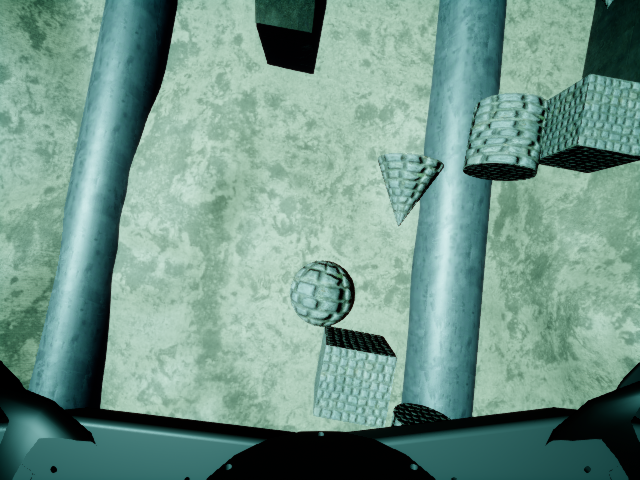box: (541, 63, 638, 178), (308, 328, 400, 426)
cone: (369, 150, 442, 237)
cylinder: (460, 84, 546, 182)
sphere: (281, 257, 354, 330)
